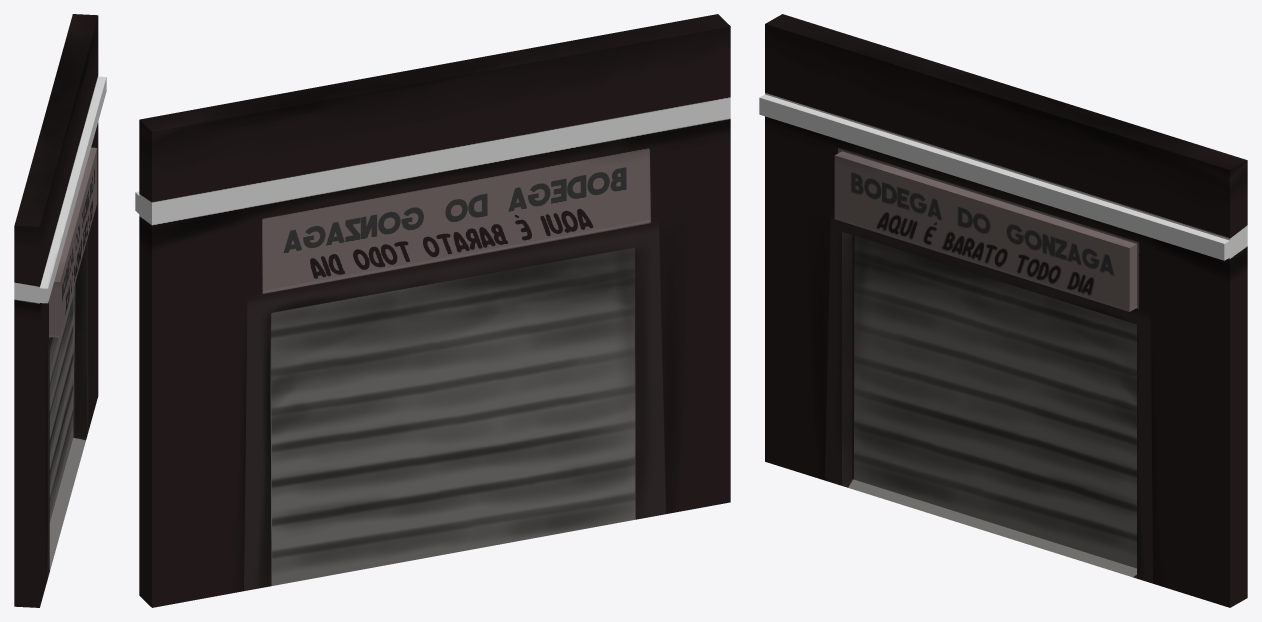
Rendered from bodega.fbx.
3 renders of one model, left to right at view 1: azimuth 30°, elevation 25°; view 2: azimuth 150°, elevation 25°; view 3: azimuth 270°, elevation 25°, orthographic. The views are drawn at different scales.
Visible parts, largest first — view 1: Cube.007; view 2: Cube.007; view 3: Cube.007.
Boxes of the visible parts, left/top/right/bottom form: Cube.007: left=14, top=14, right=106, bottom=607; Cube.007: left=135, top=14, right=730, bottom=607; Cube.007: left=759, top=14, right=1247, bottom=607.
Size of the model in its own units: 128 by 164 by 166.
Materials: 1 (1 with a texture image).
